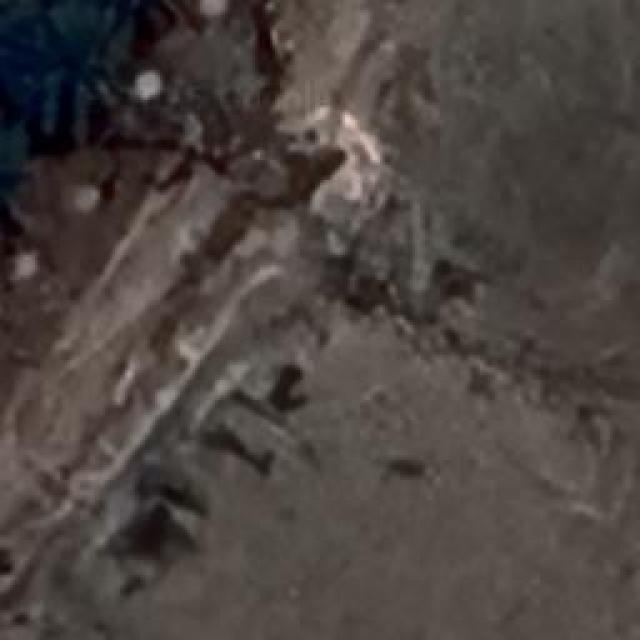PalmTree: (69, 13, 141, 128), (0, 118, 34, 258), (0, 122, 21, 248)
